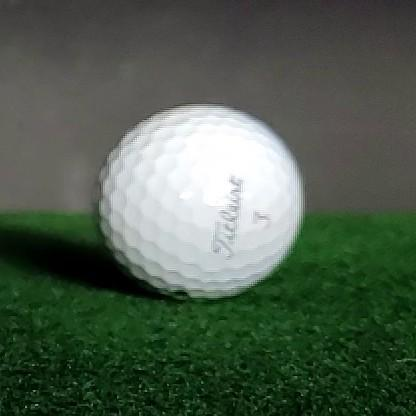golfball: (93, 105, 305, 299)
